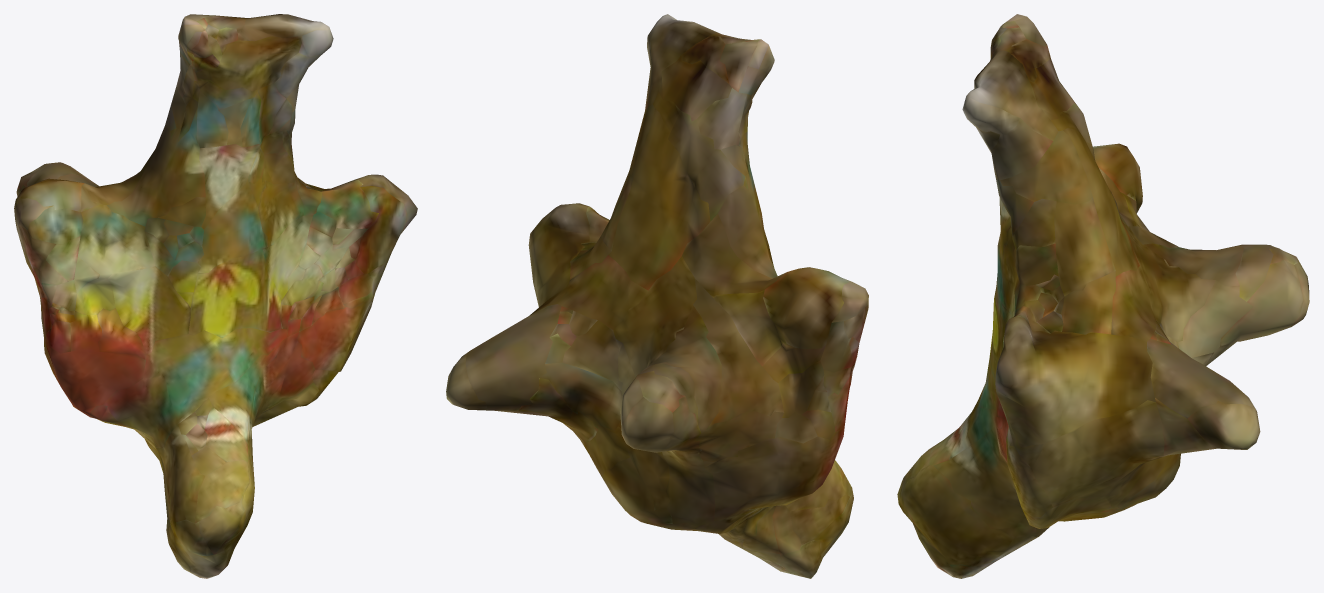
The model's file is hall.glb.
The picture shows the model from 3 angles, left to right: view 1: azimuth 30°, elevation 25°; view 2: azimuth 150°, elevation 25°; view 3: azimuth 270°, elevation 25°; orthographic projection. The views are drawn at different scales.
Size of the model in its own units: 0.2863 by 0.4096 by 0.2702.
1 material, 1 textured.
